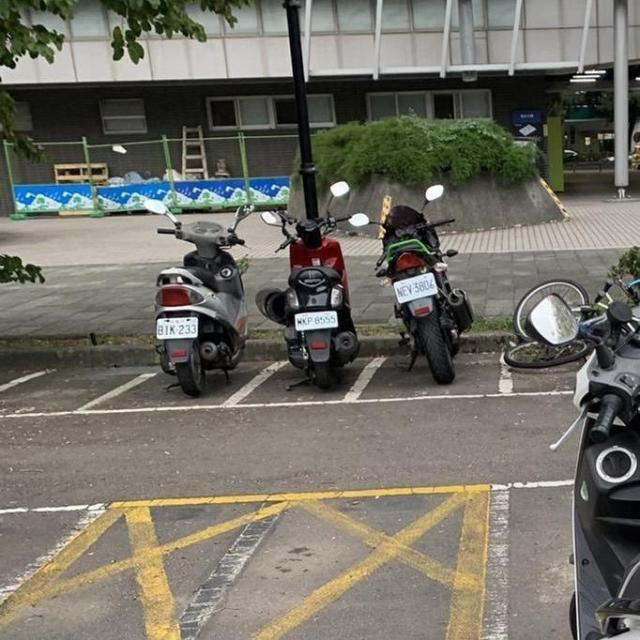W: (384, 267, 444, 306), (150, 310, 204, 344), (291, 306, 342, 334)
